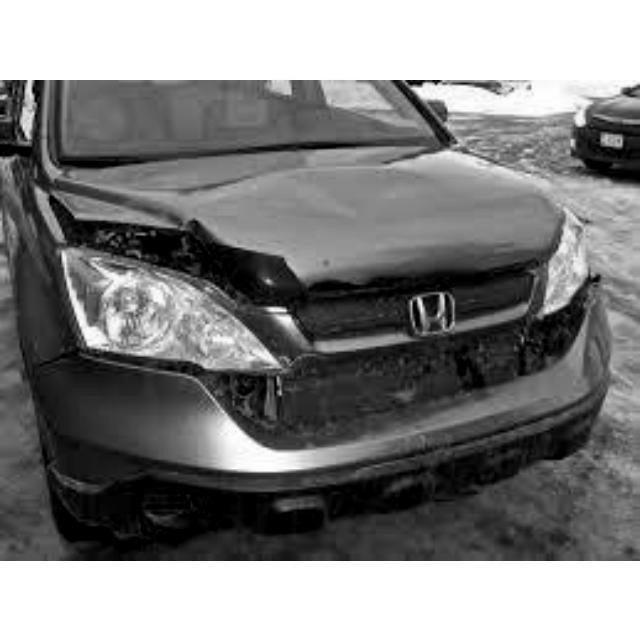bonnet-dent: (85, 156, 524, 284)
